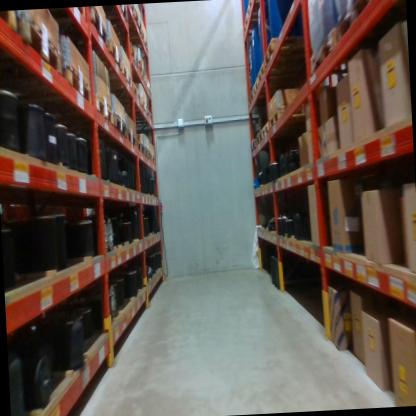pallet: (21, 8, 64, 83), (309, 22, 358, 77), (261, 31, 316, 70), (60, 7, 108, 51), (335, 0, 389, 33), (251, 73, 315, 99), (256, 57, 314, 83), (64, 59, 92, 110), (104, 81, 143, 113), (268, 105, 317, 130), (99, 61, 132, 89), (92, 93, 114, 127), (119, 7, 142, 36), (106, 38, 124, 75), (0, 11, 24, 38), (244, 0, 270, 23), (240, 12, 263, 38), (102, 5, 129, 26), (125, 42, 141, 75), (126, 27, 147, 50), (127, 108, 153, 125), (58, 8, 87, 22), (112, 116, 127, 137), (139, 67, 151, 91), (133, 135, 144, 158), (140, 92, 151, 115), (125, 127, 135, 150), (261, 121, 271, 143), (248, 136, 259, 152), (142, 142, 151, 161), (255, 129, 264, 147), (247, 92, 255, 106), (153, 157, 156, 165)
